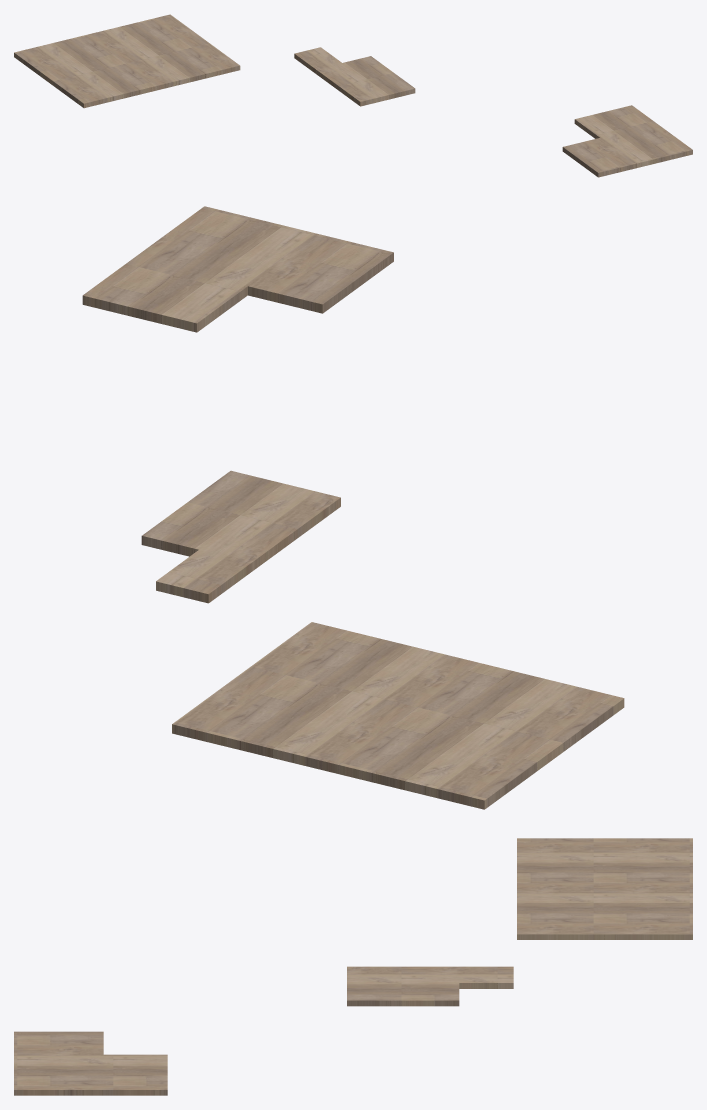
Rendered from Floor_RivergroveValorOak_.glb.
3 views of the same model, one above another, from view 1: azimuth 30°, elevation 25°; view 2: azimuth 150°, elevation 25°; view 3: azimuth 270°, elevation 25° (orthographic). The views are drawn at different scales.
Parts seen in each view (by area): view 1: Floors_rivergrove_valor_oak; view 2: Floors_rivergrove_valor_oak; view 3: Floors_rivergrove_valor_oak.
Part boxes in pixels (<box>): Floors_rivergrove_valor_oak: <box>14,14,692,177</box>; Floors_rivergrove_valor_oak: <box>82,206,624,809</box>; Floors_rivergrove_valor_oak: <box>14,838,692,1095</box>.
Size of the model in its own units: 18.6 by 0.2 by 21.2.
Materials: 1 (1 with a texture image).
